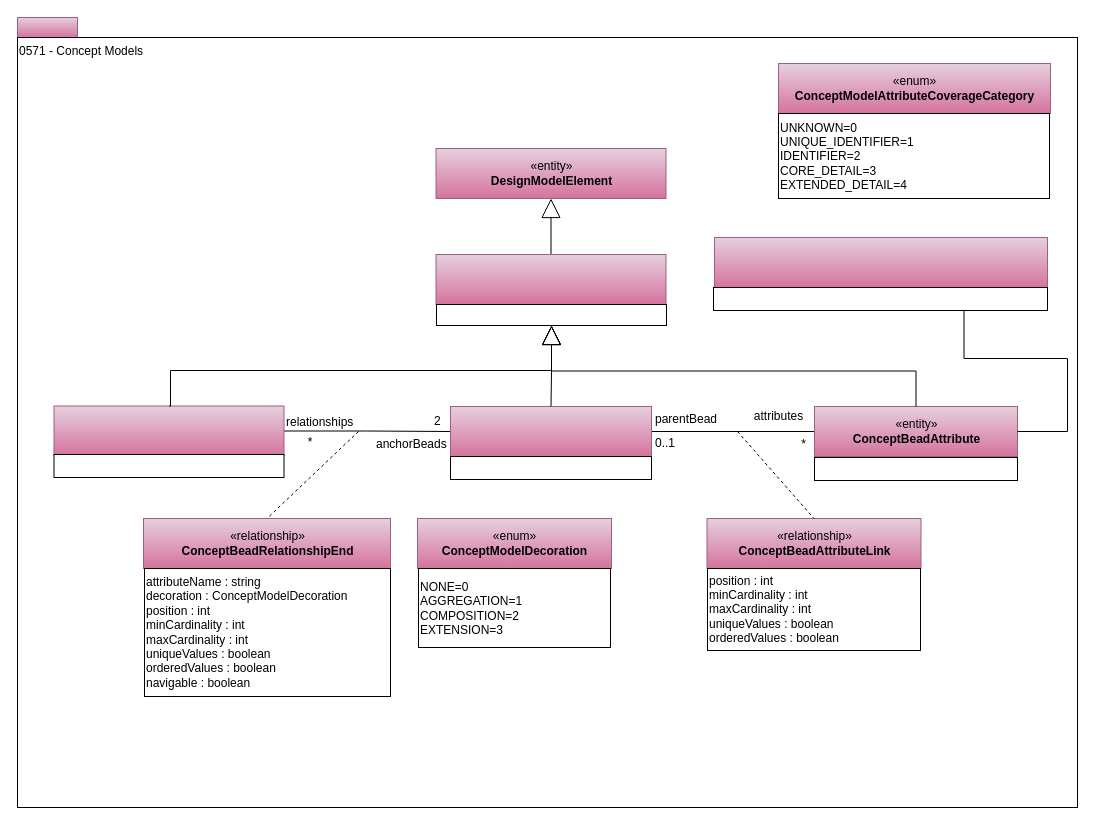
This 1095x825 diagram has some shape labels left out. The centre of each missing label's shape, as x and y in pixels:
"coverageCategory: ConceptModelAttributeCoverageCategory" belongs at point 880,298.
"«classification» ConceptBeadAttributeCoverage" belongs at point 881,262.
"«entity» ConceptBead" belongs at point 551,431.
"«entity» ConceptBeadLink" belongs at point 168,430.
"«entity» ConceptModelElement" belongs at point 550,279.
